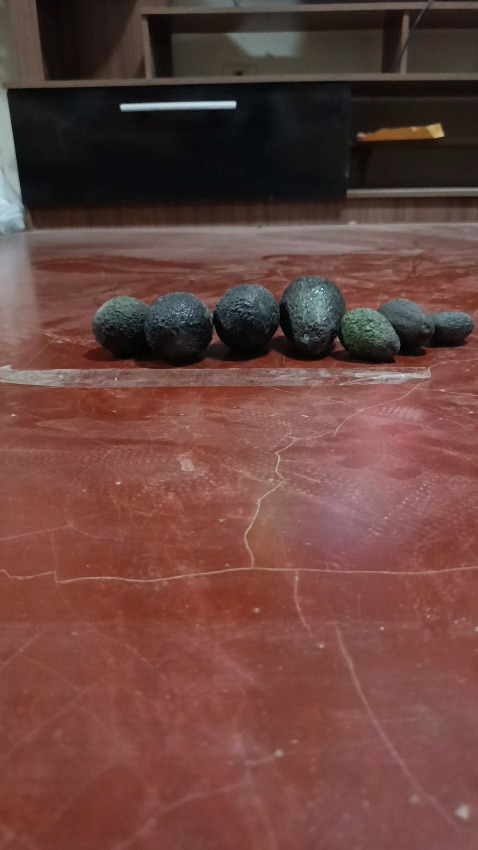Primera: (278, 275, 345, 357), (143, 291, 212, 363), (213, 282, 280, 353), (90, 295, 151, 357)
Segunda: (339, 306, 400, 361), (376, 296, 433, 353)
Tercera: (428, 311, 473, 346)
